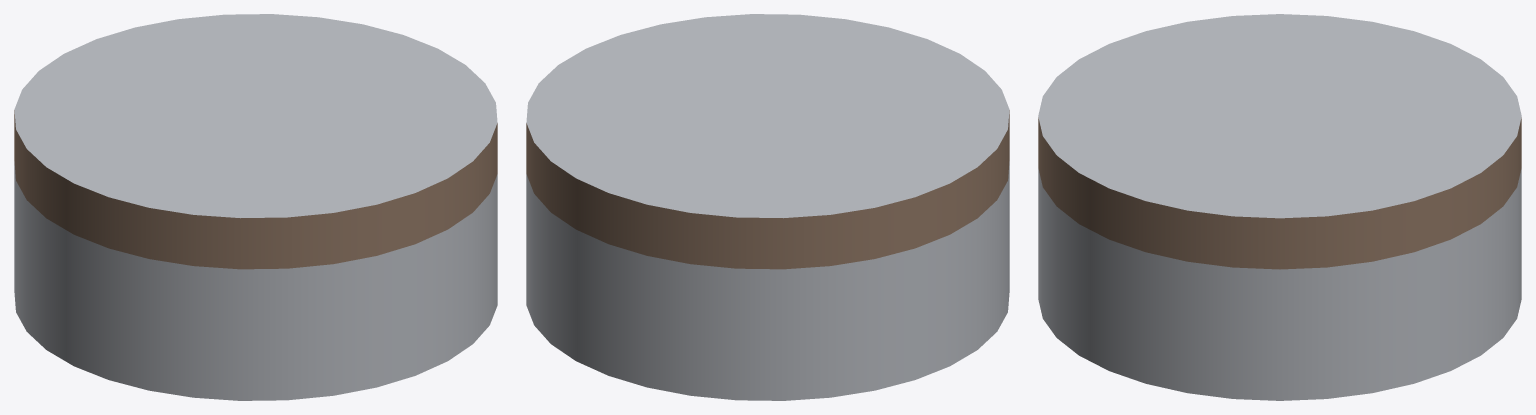
3 renders of one model, left to right at view 1: azimuth 30°, elevation 25°; view 2: azimuth 150°, elevation 25°; view 3: azimuth 270°, elevation 25°, orthographic.
Parts seen in each view (by area): view 1: ratchet_0-50; view 2: ratchet_0-50; view 3: ratchet_0-50.
Boxes of the visible parts, <box> form: ratchet_0-50: <box>14,14,497,400</box>; ratchet_0-50: <box>526,14,1009,400</box>; ratchet_0-50: <box>1038,14,1521,400</box>.
Bounding box in the file's own units: 12 × 5 × 12.
